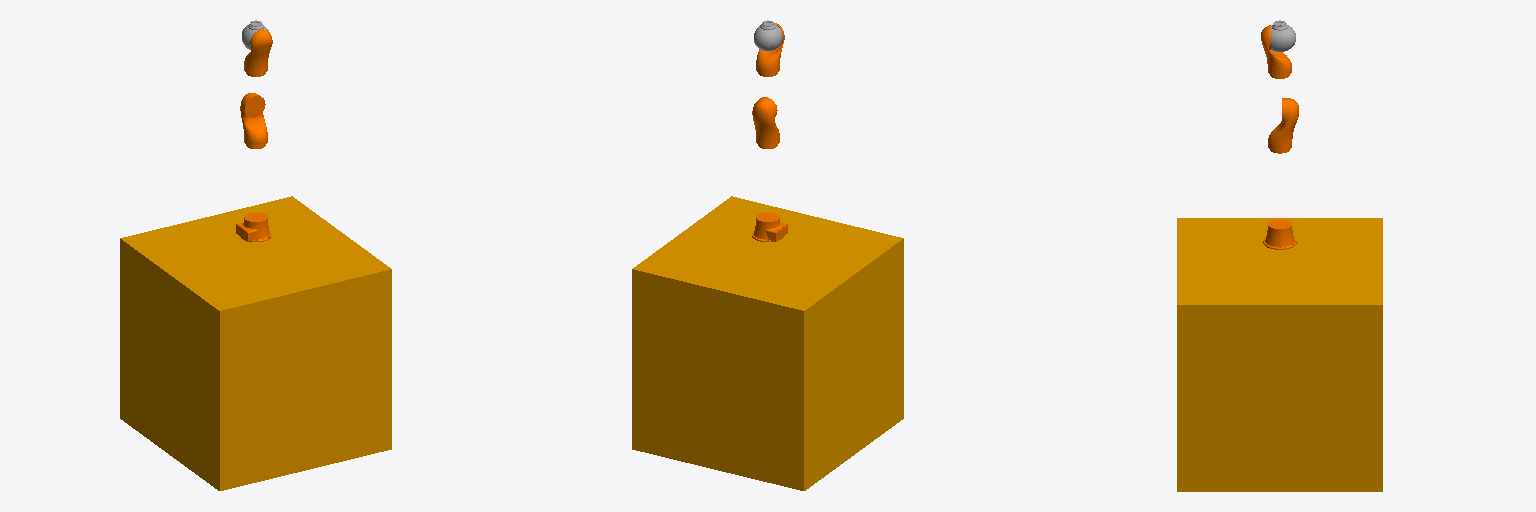
robot.urdf — lwr:
<?xml version="1.0" ?>
<!-- =================================================================================== -->
<!-- |    This document was autogenerated by xacro from kuka_lwr_arm.urdf.xml          | -->
<!-- |    EDITING THIS FILE BY HAND IS NOT RECOMMENDED                                 | -->
<!-- =================================================================================== -->
<robot name="lwr" xmlns:controller="http://playerstage.sourceforge.net/gazebo/xmlschema/#controller" xmlns:interface="http://playerstage.sourceforge.net/gazebo/xmlschema/#interface" xmlns:sensor="http://playerstage.sourceforge.net/gazebo/xmlschema/#sensor" xmlns:xacro="http://www.ros.org/wiki/xacro">
  <gazebo>
    <plugin filename="librtt_gazebo_plugin.so" name="rtt_gazebo">
      <opsScript>
        import(&quot;rtt_ros&quot;);
        ros.import(&quot;rtt_roscomm&quot;);
        ros.import(&quot;rtt_rosparam&quot;);
        ros.import(&quot;rtt_sensor_msgs&quot;);
        ros.import(&quot;lwr_simulation&quot;);
        ros.import(&quot;oro_joint_state_publisher&quot;);
        
        loadComponent(&quot;FRI&quot;,&quot;LWRController&quot;);
        loadComponent(&quot;joints&quot;,&quot;JointStatePublisher&quot;);
        
        loadService(&quot;FRI&quot;,&quot;rosparam&quot;);
        loadService(&quot;joints&quot;,&quot;rosparam&quot;);
        
        setActivity(&quot;FRI&quot;, 0.0, 5, ORO_SCHED_RT);
        setActivity(&quot;joints&quot;, 0.02, 5, ORO_SCHED_RT);
        
        connect(&quot;FRI.JointPosition&quot;,&quot;joints.msrJntPos&quot;, ConnPolicy());
        stream(&quot;joints.joints_state&quot;, rostopic.connection(&quot;/joints_state&quot;));
        
        joints.rosparam.refreshProperties();
        joints.configure();
        joints.start();
      </opsScript>
      <component>FRI</component>
    </plugin>
  </gazebo>
  <material name="DarkGrey">
    <color rgba="0.3 0.3 0.3 1.0"/>
  </material>
  <material name="Red">
    <color rgba="0.3 0.3 0.3 1.0"/>
  </material>
  <material name="Black">
    <color rgba="0 0 0 1.0"/>
  </material>
  <material name="Orange">
    <color rgba="1.0 0.487 0 1.0"/>
  </material>
  <material name="Silver">
    <color rgba="1.0 1.0 1.0 1.0"/>
  </material>
  <material name="Grey">
    <color rgba="0.7 0.7 0.7 1.0"/>
  </material>
  <material name="Blue">
    <color rgba="0.0 0.0 0.8 1.0"/>
  </material>
  <material name="HandGray">
    <color rgba="0.953 0.996 0.694 1.0"/>
  </material>
  <material name="SickBlue">
    <color rgba="0.3058 0.5921 0.7294 1.0"/>
  </material>
  <!--
  <link name="dupa" >
  </link>
  
  <joint name="arm_world_joint" type="fixed">
    <origin xyz="0 0 0.3" rpy="0 0 0"/>
    <parent link="world"/>
    <child link="world_link"/>
  </joint>
-->
  <link name="world_link">
    <inertial>
      <mass value="50.0"/>
      <com xyz="0 0 0"/>
      <inertia ixx="0.01" ixy="0.00" ixz="0.00" iyy="0.01" iyz="0.00" izz="0.01"/>
    </inertial>
    <visual>
      <origin rpy="0 0 0" xyz="0 0 0.50"/>
      <geometry>
        <box size="1 1 1.0"/>
      </geometry>
    </visual>
    <collision>
      <origin rpy="0 0 0" xyz="0 0 0.50"/>
      <geometry>
        <box size="1 1 1.0"/>
      </geometry>
    </collision>
  </link>
  <joint name="world_link_lwr_arm_base_joint" type="fixed">
    <origin rpy="0 0 0" xyz="0 0 1.1"/>
    <parent link="world_link"/>
    <child link="calib_lwr_arm_base_link"/>
  </joint>
  <link name="calib_lwr_arm_base_link">
    <inertial>
      <mass value="2.0"/>
      <origin xyz="0 0 0.055"/>
      <inertia ixx="0.00381666666667" ixy="0" ixz="0" iyy="0.0036" iyz="0" izz="0.00381666666667"/>
    </inertial>
    <visual>
      <origin rpy="0 0 0" xyz="0 0 0"/>
      <geometry>
        <mesh filename="package://lwr_defs/meshes/lwr/base.STL"/>
      </geometry>
      <material name="Orange"/>
    </visual>
    <collision>
      <origin rpy="0 0 3.14159265359" xyz="0 0 0.055"/>
      <geometry>
        <!--          <mesh filename="package://lwr_defs/meshes/lwr/convex/arm_base_convex.stl"/> -->
        <cylinder length="0.11" radius="0.07"/>
      </geometry>
    </collision>
  </link>
  <joint name="lwr_arm_0_joint" type="revolute">
    <origin rpy="0 0 0" xyz="0 0 0.11"/>
    <axis xyz="0 0 1"/>
    <limit effort="204" lower="-2.96705972839" upper="2.96705972839" velocity="1.91986217719"/>
    <safety_controller k_position="30" k_velocity="30" soft_lower_limit="-2.93215314335" soft_upper_limit="2.93215314335"/>
    <dynamics damping="1.0"/>
    <parent link="calib_lwr_arm_base_link"/>
    <child link="lwr_arm_1_link"/>
  </joint>
  <link name="lwr_arm_1_link">
    <inertial>
      <mass value="2.0"/>
      <origin rpy="0 0 0" xyz="0 -0.06 0.130"/>
      <inertia ixx="0.0136666666667" ixy="0" ixz="0" iyy="0.003" iyz="0" izz="0.0118666666667"/>
    </inertial>
    <visual>
      <origin rpy="0 0 0" xyz="0 0 -0.008"/>
      <geometry>
        <mesh filename="package://lwr_defs/meshes/lwr/link_1.STL"/>
      </geometry>
      <material name="Orange"/>
    </visual>
    <!--
      <collision>
        <origin xyz="0 0 0" rpy="0 0 0"/>
        <geometry>
          <mesh filename="package://lwr_defs/meshes/lwr/convex/arm_segment_a_convex.stl"/>
        </geometry>
      </collision>
 -->
    <collision>
      <origin rpy="0 0 0" xyz="0 0 0.0"/>
      <geometry>
        <sphere radius="0.07"/>
      </geometry>
    </collision>
    <collision>
      <origin rpy="0 0 0" xyz="0 -0.06 0.2"/>
      <geometry>
        <sphere radius="0.07"/>
      </geometry>
    </collision>
    <collision>
      <origin rpy="0.291 0 0" xyz="0 -0.03 0.1"/>
      <geometry>
        <cylinder length="0.208" radius="0.07"/>
      </geometry>
    </collision>
  </link>
  <gazebo reference="lwr_arm_1_link">
    <gravity>false</gravity>
  </gazebo>
  <transmission name="lwr_arm_0_trans" type="SimpleTransmission">
    <actuator name="lwr_arm_0_motor"/>
    <joint name="lwr_arm_0_joint"/>
    <mechanicalReduction>1.0</mechanicalReduction>
  </transmission>
  <joint name="lwr_arm_1_joint" type="revolute">
    <origin rpy="0 0 0" xyz="0 0 0.2005"/>
    <axis xyz="0 1 0"/>
    <limit effort="306" lower="-2.09439510239" upper="2.09439510239" velocity="1.91986217719"/>
    <safety_controller k_position="30" k_velocity="30" soft_lower_limit="-2.05948851735" soft_upper_limit="2.05948851735"/>
    <dynamics damping="1.0" friction="10"/>
    <parent link="lwr_arm_1_link"/>
    <child link="lwr_arm_2_link"/>
  </joint>
  <link name="lwr_arm_2_link">
    <inertial>
      <mass value="2.0"/>
      <origin rpy="0 0 0" xyz="0 0.06 0.07"/>
      <inertia ixx="0.0136666666667" ixy="0" ixz="0" iyy="0.003" iyz="0" izz="0.0118666666667"/>
    </inertial>
    <visual>
      <origin rpy="0 0 0" xyz="0 0 0.0"/>
      <geometry>
        <mesh filename="package://lwr_defs/meshes/lwr/link_2.STL"/>
      </geometry>
      <material name="Orange"/>
    </visual>
    <!--
      <collision>
        <origin xyz="0 0 0.2" rpy="${M_PI} 0 0"/>
        <geometry>
          <mesh filename="package://lwr_defs/meshes/lwr/convex/arm_segment_b_convex.stl"/>
        </geometry>
      </collision>
-->
    <collision>
      <origin rpy="0 0 0" xyz="0 0 0.2"/>
      <geometry>
        <sphere radius="0.07"/>
      </geometry>
    </collision>
    <collision>
      <origin rpy="0 0 0" xyz="0 0.06 0.0"/>
      <geometry>
        <sphere radius="0.07"/>
      </geometry>
    </collision>
    <collision>
      <origin rpy="0.291 0 0" xyz="0 0.03 0.1"/>
      <geometry>
        <cylinder length="0.208" radius="0.07"/>
      </geometry>
    </collision>
  </link>
  <gazebo reference="lwr_arm_2_link">
    <gravity>false</gravity>
  </gazebo>
  <transmission name="lwr_arm_1_trans" type="SimpleTransmission">
    <actuator name="lwr_arm_1_motor"/>
    <joint name="lwr_arm_1_joint"/>
    <mechanicalReduction>1.0</mechanicalReduction>
  </transmission>
  <joint name="lwr_arm_2_joint" type="revolute">
    <origin rpy="0 0 0" xyz="0 0 0.20"/>
    <axis xyz="0 0 1"/>
    <limit effort="204" lower="-2.96705972839" upper="2.96705972839" velocity="2.26892802759"/>
    <safety_controller k_position="30" k_velocity="30" soft_lower_limit="-2.93215314335" soft_upper_limit="2.93215314335"/>
    <dynamics damping="1.0"/>
    <parent link="lwr_arm_2_link"/>
    <child link="lwr_arm_3_link"/>
  </joint>
  <link name="lwr_arm_3_link">
    <inertial>
      <mass value="2.0"/>
      <origin rpy="0 0 0" xyz="0 0.06 0.130"/>
      <inertia ixx="0.0136666666667" ixy="0" ixz="0" iyy="0.003" iyz="0" izz="0.0118666666667"/>
    </inertial>
    <visual>
      <origin rpy="0 0 0" xyz="0 0 -0.008"/>
      <geometry>
        <mesh filename="package://lwr_defs/meshes/lwr/link_3.STL"/>
      </geometry>
      <material name="Orange"/>
    </visual>
    <!--
      <collision>
        <origin xyz="0 0 0" rpy="0 0 ${M_PI}"/>
        <geometry>
          <mesh filename="package://lwr_defs/meshes/lwr/convex/arm_segment_a_convex.stl"/>
        </geometry>
      </collision>
-->
    <collision>
      <origin rpy="0 0 0" xyz="0 0 0.0"/>
      <geometry>
        <sphere radius="0.07"/>
      </geometry>
    </collision>
    <collision>
      <origin rpy="0 0 0" xyz="0 0.06 0.2"/>
      <geometry>
        <sphere radius="0.07"/>
      </geometry>
    </collision>
    <collision>
      <origin rpy="-0.291 0 0" xyz="0 0.03 0.1"/>
      <geometry>
        <cylinder length="0.208" radius="0.07"/>
      </geometry>
    </collision>
  </link>
  <gazebo reference="lwr_arm_3_link">
    <gravity>false</gravity>
  </gazebo>
  <transmission name="lwr_arm_2_trans" type="SimpleTransmission">
    <actuator name="lwr_arm_2_motor"/>
    <joint name="lwr_arm_2_joint"/>
    <mechanicalReduction>1.0</mechanicalReduction>
  </transmission>
  <joint name="lwr_arm_3_joint" type="revolute">
    <origin rpy="0 0 0" xyz="0 0 0.20"/>
    <axis xyz="0 -1 0"/>
    <limit effort="306" lower="-2.09439510239" upper="2.09439510239" velocity="2.26892802759"/>
    <safety_controller k_position="30" k_velocity="30" soft_lower_limit="-2.05948851735" soft_upper_limit="2.05948851735"/>
    <dynamics damping="1.0"/>
    <parent link="lwr_arm_3_link"/>
    <child link="lwr_arm_4_link"/>
  </joint>
  <link name="lwr_arm_4_link">
    <inertial>
      <mass value="2.0"/>
      <origin rpy="0 0 0" xyz="0 -0.06 0.07"/>
      <inertia ixx="0.0136666666667" ixy="0" ixz="0" iyy="0.003" iyz="0" izz="0.0118666666667"/>
    </inertial>
    <visual>
      <origin rpy="0 0 0" xyz="0 0 0.0"/>
      <geometry>
        <mesh filename="package://lwr_defs/meshes/lwr/link_4.STL"/>
      </geometry>
      <material name="Orange"/>
    </visual>
    <!--
      <collision>
        <origin xyz="0 0 0.2" rpy="0 ${M_PI} 0"/>
        <geometry>
          <mesh filename="package://lwr_defs/meshes/lwr/convex/arm_segment_b_convex.stl"/>
        </geometry>
      </collision>
-->
    <collision>
      <origin rpy="0 0 0" xyz="0 0 0.2"/>
      <geometry>
        <sphere radius="0.07"/>
      </geometry>
    </collision>
    <collision>
      <origin rpy="0 0 0" xyz="0 -0.06 0.0"/>
      <geometry>
        <sphere radius="0.07"/>
      </geometry>
    </collision>
    <collision>
      <origin rpy="-0.291 0 0" xyz="0 -0.03 0.1"/>
      <geometry>
        <cylinder length="0.208" radius="0.07"/>
      </geometry>
    </collision>
  </link>
  <gazebo reference="lwr_arm_4_link">
    <gravity>false</gravity>
  </gazebo>
  <transmission name="lwr_arm_3_trans" type="SimpleTransmission">
    <actuator name="lwr_arm_3_motor"/>
    <joint name="lwr_arm_3_joint"/>
    <mechanicalReduction>1.0</mechanicalReduction>
  </transmission>
  <joint name="lwr_arm_4_joint" type="revolute">
    <origin rpy="0 0 0" xyz="0 0 0.20"/>
    <axis xyz="0 0 1"/>
    <limit effort="204" lower="-2.96705972839" upper="2.96705972839" velocity="2.26892802759"/>
    <safety_controller k_position="30" k_velocity="30" soft_lower_limit="-2.93215314335" soft_upper_limit="2.93215314335"/>
    <dynamics damping="1.0"/>
    <parent link="lwr_arm_4_link"/>
    <child link="lwr_arm_5_link"/>
  </joint>
  <link name="lwr_arm_5_link">
    <inertial>
      <mass value="2.0"/>
      <origin rpy="0 0 0" xyz="0 0 0.124"/>
      <inertia ixx="0.0126506666667" ixy="0" ixz="0" iyy="0.003" iyz="0" izz="0.0108506666667"/>
    </inertial>
    <visual>
      <origin rpy="0 0 0" xyz="0 0 -0.008"/>
      <geometry name="lwr_arm_5_geom">
        <mesh filename="package://lwr_defs/meshes/lwr/link_5.STL"/>
      </geometry>
      <material name="Orange"/>
    </visual>
    <!--
      <collision>
        <origin xyz="0 0 0" rpy="0 0 0"/>
        <geometry>
          <mesh filename="package://lwr_defs/meshes/lwr/convex/arm_segment_last_convex.stl"/>
        </geometry>
      </collision>
-->
    <collision>
      <origin rpy="0 0 0" xyz="0 0 0.0"/>
      <geometry>
        <sphere radius="0.07"/>
      </geometry>
    </collision>
    <collision>
      <origin rpy="0 0 0" xyz="0 -0.04 0.19"/>
      <geometry>
        <sphere radius="0.07"/>
      </geometry>
    </collision>
    <collision>
      <origin rpy="0.207 0 0" xyz="0 -0.02 0.095"/>
      <geometry>
        <cylinder length="0.198" radius="0.07"/>
      </geometry>
    </collision>
  </link>
  <gazebo reference="lwr_arm_5_link">
    <gravity>false</gravity>
  </gazebo>
  <transmission name="lwr_arm_4_trans" type="SimpleTransmission">
    <actuator name="lwr_arm_4_motor"/>
    <joint name="lwr_arm_4_joint"/>
    <mechanicalReduction>1.0</mechanicalReduction>
  </transmission>
  <joint name="lwr_arm_5_joint" type="revolute">
    <origin rpy="0 0 0" xyz="0 0 0.19"/>
    <axis xyz="0 1 0"/>
    <limit effort="306" lower="-2.09439510239" upper="2.09439510239" velocity="3.14159265359"/>
    <safety_controller k_position="30" k_velocity="30" soft_lower_limit="-2.05948851735" soft_upper_limit="2.05948851735"/>
    <dynamics damping="1.0"/>
    <parent link="lwr_arm_5_link"/>
    <child link="lwr_arm_6_link"/>
  </joint>
  <link name="lwr_arm_6_link">
    <inertial>
      <mass value="0.2"/>
      <origin rpy="0 0 0" xyz="0 0 0.0625"/>
      <inertia ixx="0.000520833333333" ixy="0" ixz="0" iyy="0.000520833333333" iyz="0" izz="0.000520833333333"/>
    </inertial>
    <visual>
      <origin rpy="0 0 0" xyz="0 0 0"/>
      <geometry>
        <mesh filename="package://lwr_defs/meshes/lwr/link_6.STL"/>
      </geometry>
      <material name="Grey"/>
    </visual>
    <collision>
      <origin rpy="0 0 0" xyz="0 0 0"/>
      <geometry>
        <mesh filename="package://lwr_defs/meshes/lwr/convex/arm_wrist_convex.stl"/>
      </geometry>
    </collision>
  </link>
  <gazebo reference="lwr_arm_6_link">
    <gravity>false</gravity>
  </gazebo>
  <transmission name="lwr_arm_5_trans" type="SimpleTransmission">
    <actuator name="lwr_arm_5_motor"/>
    <joint name="lwr_arm_5_joint"/>
    <mechanicalReduction>1.0</mechanicalReduction>
  </transmission>
  <joint name="lwr_arm_6_joint" type="revolute">
    <origin rpy="0 0 0" xyz="0 0 0.078"/>
    <axis xyz="0 0 1"/>
    <limit effort="204" lower="-2.96705972839" upper="2.96705972839" velocity="3.14159265359"/>
    <safety_controller k_position="30" k_velocity="30" soft_lower_limit="-2.93215314335" soft_upper_limit="2.93215314335"/>
    <dynamics damping="1.0"/>
    <parent link="lwr_arm_6_link"/>
    <child link="lwr_arm_7_link"/>
  </joint>
  <link name="lwr_arm_7_link">
    <inertial>
      <mass value="0.2"/>
      <origin xyz="0 0 0"/>
      <inertia ixx="0.0333333333333" ixy="0" ixz="0" iyy="0.0333333333333" iyz="0" izz="0.0333333333333"/>
    </inertial>
    <visual>
      <origin rpy="0 0 0" xyz="0 0 0"/>
      <geometry>
        <mesh filename="package://lwr_defs/meshes/lwr/link_7.STL"/>
      </geometry>
      <material name="Grey"/>
    </visual>
    <collision>
      <origin rpy="0 0 -0.785398163397" xyz="0 0 0"/>
      <geometry>
        <cylinder length="0.05" radius="0.04"/>
      </geometry>
    </collision>
  </link>
  <gazebo reference="lwr_arm_7_link">
    <gravity>false</gravity>
  </gazebo>
  <transmission name="lwr_arm_6_trans" type="SimpleTransmission">
    <actuator name="lwr_arm_6_motor"/>
    <joint name="lwr_arm_6_joint"/>
    <mechanicalReduction>1.0</mechanicalReduction>
  </transmission>
</robot>

--- Facts derived from the render (not from the file) ---
Views: 3 orthographic renders of the robot side by side, from view 1: azimuth 30°, elevation 25°; view 2: azimuth 150°, elevation 25°; view 3: azimuth 270°, elevation 25°.
Robot: lwr — 9 links, 8 joints (7 revolute, 1 fixed); root link world_link; default pose: every joint at zero.
Links seen in each view (by area): view 1: world_link, lwr_arm_3_link, lwr_arm_5_link, calib_lwr_arm_base_link; view 2: world_link, lwr_arm_3_link, calib_lwr_arm_base_link, lwr_arm_5_link, lwr_arm_6_link; view 3: world_link, lwr_arm_3_link, lwr_arm_5_link, calib_lwr_arm_base_link.
Boxes of the visible links, <box> form: world_link: <box>120,196,391,490</box>; lwr_arm_3_link: <box>240,93,267,148</box>; lwr_arm_5_link: <box>244,29,272,76</box>; calib_lwr_arm_base_link: <box>236,212,271,241</box>; world_link: <box>632,196,903,490</box>; lwr_arm_3_link: <box>752,97,779,148</box>; calib_lwr_arm_base_link: <box>752,212,787,241</box>; lwr_arm_5_link: <box>756,23,784,76</box>; lwr_arm_6_link: <box>754,24,782,50</box>; world_link: <box>1177,218,1382,491</box>; lwr_arm_3_link: <box>1268,98,1298,153</box>; lwr_arm_5_link: <box>1261,25,1291,78</box>; calib_lwr_arm_base_link: <box>1263,219,1296,249</box>.
Bounding box of the posed robot: 1 × 1 × 2.28 m (x, y, z).
Meshes: 8 distinct files referenced, 5 mesh visuals loaded (5 binary STL); not drawn: 3 (reference not matched to a file when rendering).